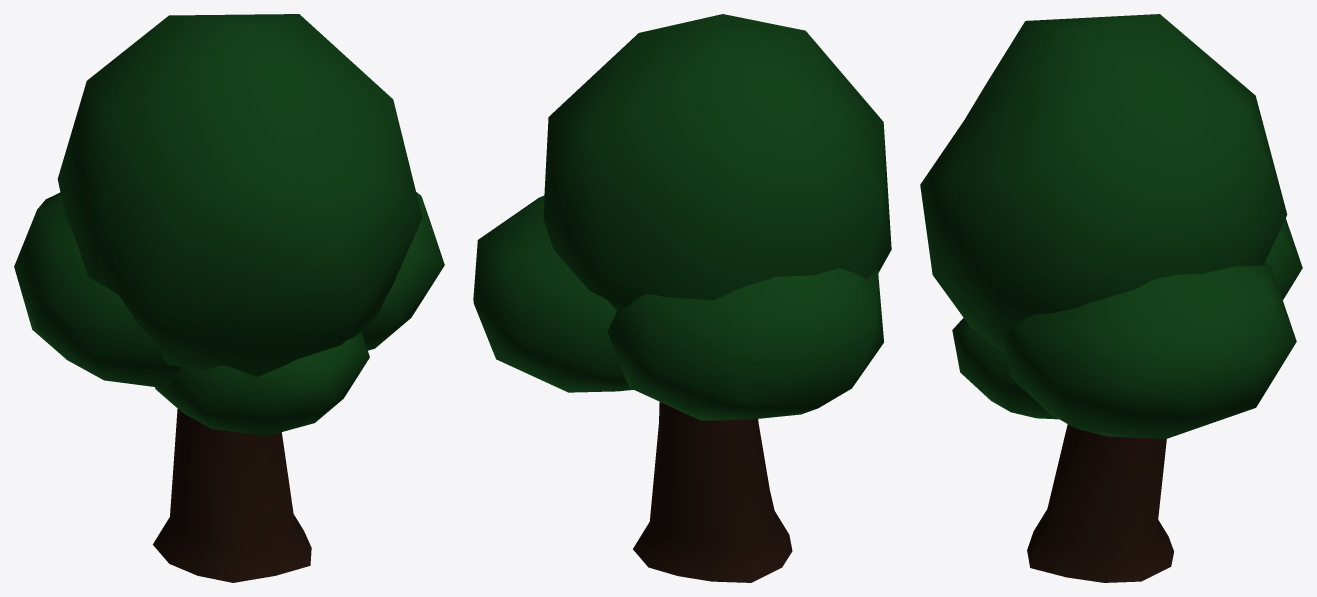
Rendered from Tree_C.obj.
3 renders of one model, left to right at view 1: azimuth 30°, elevation 25°; view 2: azimuth 150°, elevation 25°; view 3: azimuth 270°, elevation 25°, orthographic.
Visible parts, largest first — view 1: Tree_C pSolid5, pCylinder57 Tree_C; view 2: Tree_C pSolid5, pCylinder57 Tree_C; view 3: Tree_C pSolid5, pCylinder57 Tree_C.
Part boxes in pixels (bbox=[...]): Tree_C pSolid5: bbox=[14, 14, 444, 436]; pCylinder57 Tree_C: bbox=[153, 409, 311, 582]; Tree_C pSolid5: bbox=[473, 14, 891, 420]; pCylinder57 Tree_C: bbox=[633, 402, 792, 582]; Tree_C pSolid5: bbox=[920, 14, 1302, 438]; pCylinder57 Tree_C: bbox=[1027, 424, 1173, 582].
Bounding box in the file's own units: 9.95 × 13.17 × 8.7.
